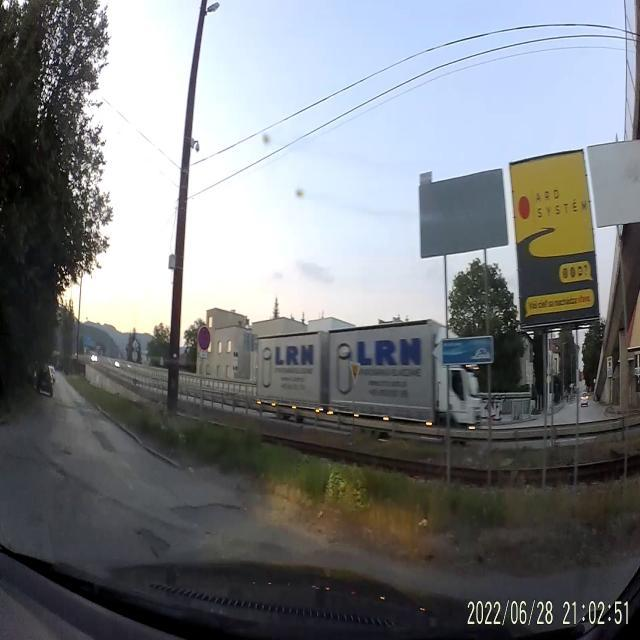Pothole: (167, 504, 247, 529), (139, 525, 171, 561)
